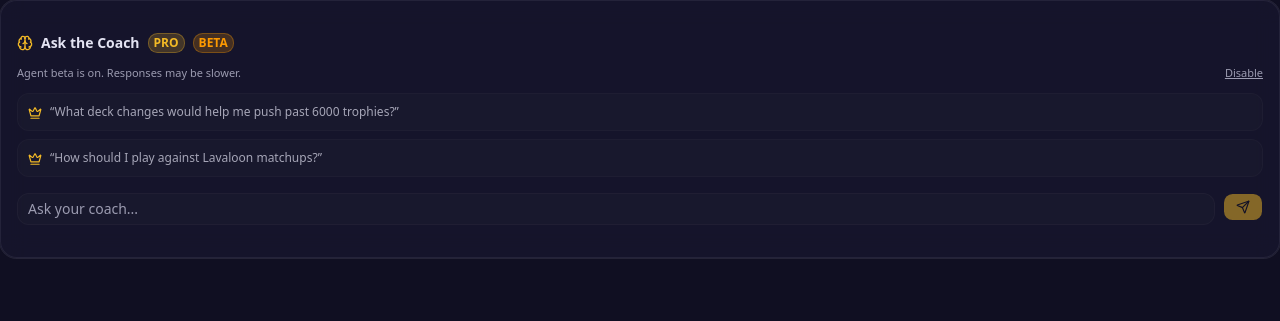
CoachChat › agentic streaming path › streams a zero-tool answer and displays the final text
expect the text "Agent beta is on. Responses may be slower." is shown: met, box [17, 65, 241, 81]
In the field with placeholder "Ask your coach...": (616, 209) [17, 193, 1215, 225], type "how am i?"
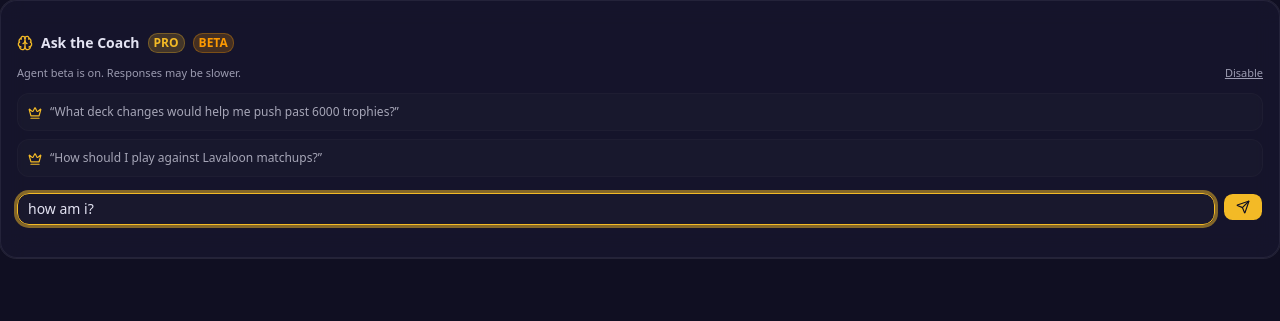
Click the button named "send coach question": (1243, 207) [1223, 193, 1263, 221]
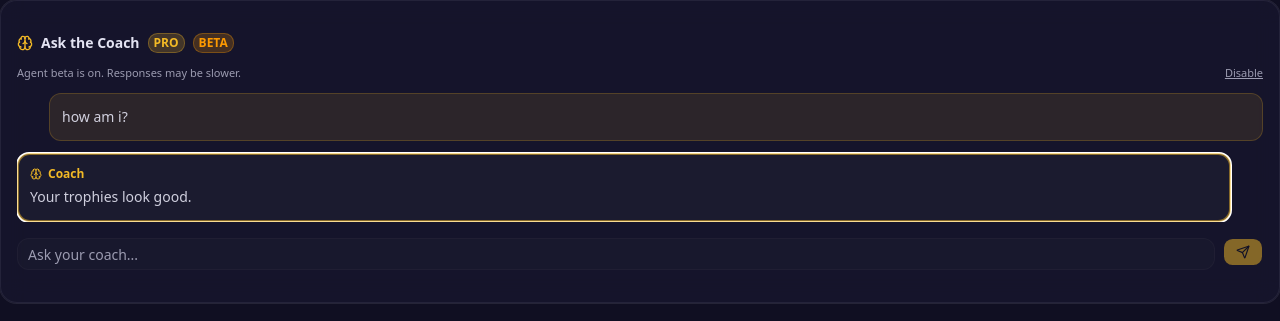
expect the text "Your trophies look good." is shown: met, box [30, 188, 192, 206]
